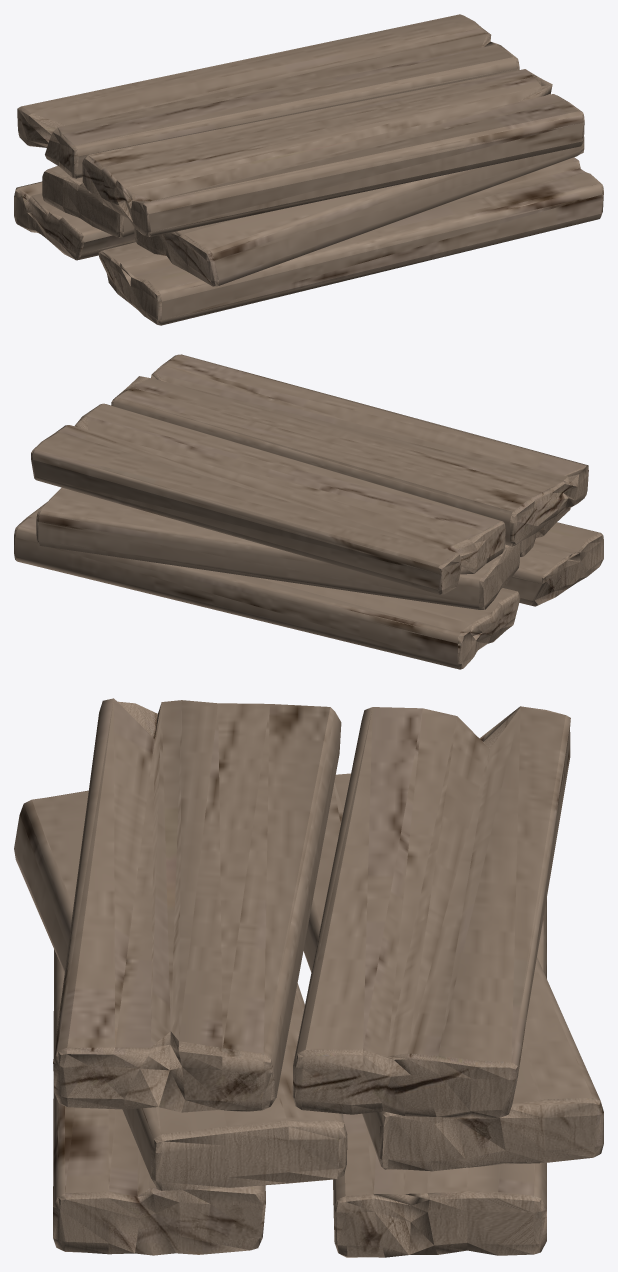
Rendered from plank.glb.
The picture shows the model from 3 angles, top to bottom: view 1: azimuth 30°, elevation 25°; view 2: azimuth 150°, elevation 25°; view 3: azimuth 270°, elevation 25°; orthographic projection. The views are drawn at different scales.
Parts seen in each view (by area): view 1: Prop_plank; view 2: Prop_plank; view 3: Prop_plank.
Boxes of the visible parts, <box> form: Prop_plank: <box>14,14,603,325</box>; Prop_plank: <box>14,354,603,669</box>; Prop_plank: <box>14,698,603,1257</box>.
Size of the model in its own units: 0.6051 by 0.1468 by 0.4.
1 material, 1 textured.
